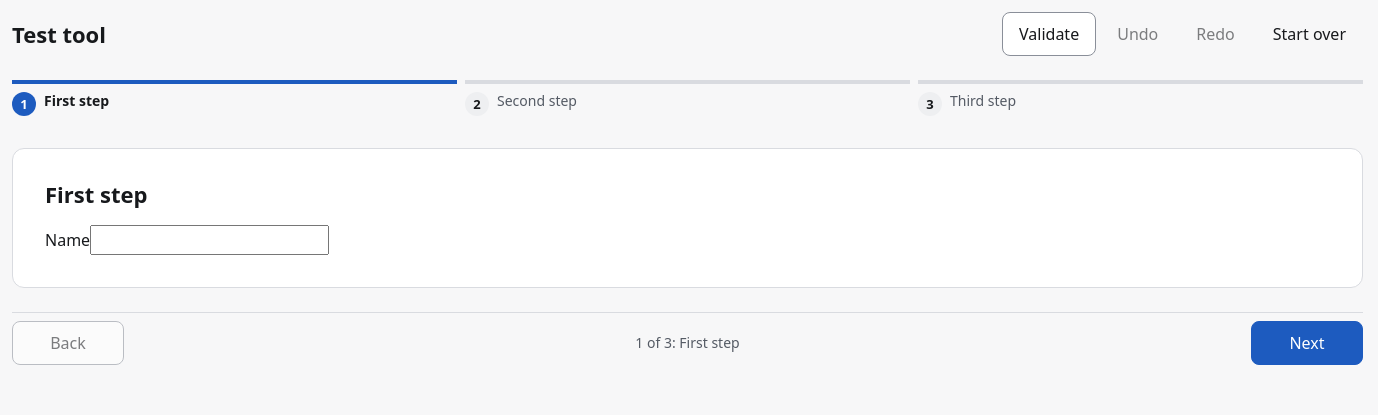
it: Wizard › blocks Next with a plain-language message until the step is valid
Expected: the heading reads "First step", left=45, top=179, right=147, bottom=209
Expected: the button "Back" is disabled, left=12, top=321, right=124, bottom=365
Click the button "Next" at [1307, 343], box left=1251, top=321, right=1363, bottom=365
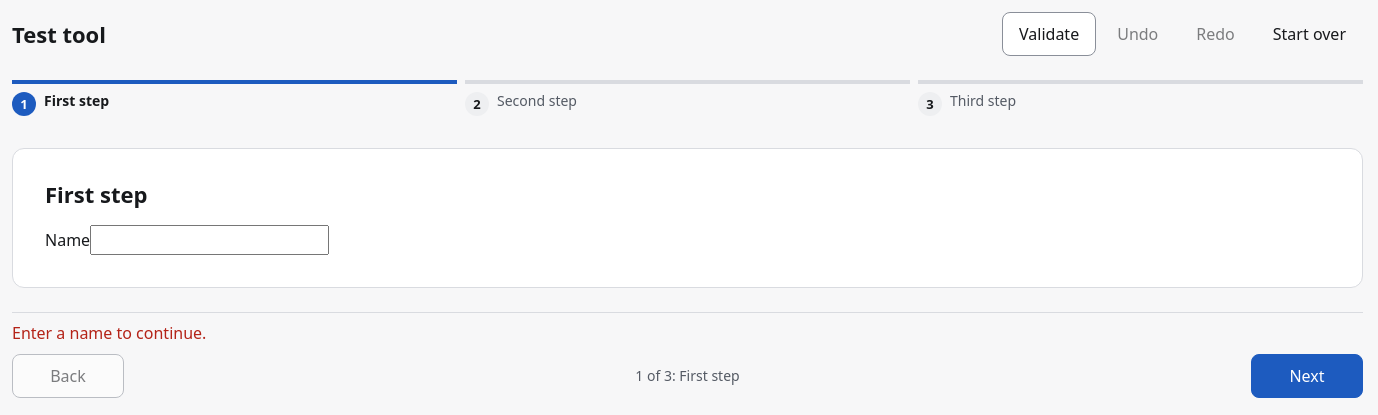
Expected: the heading reads "First step", left=45, top=179, right=147, bottom=209
Expected: the message reads "Enter a name to continue.", left=12, top=322, right=206, bottom=344
// The message goes as soon as the problem is fixed, before Next is pressed again.
Type "Sample A" into the field labelled "Name" at [210, 240], box left=90, top=224, right=329, bottom=255
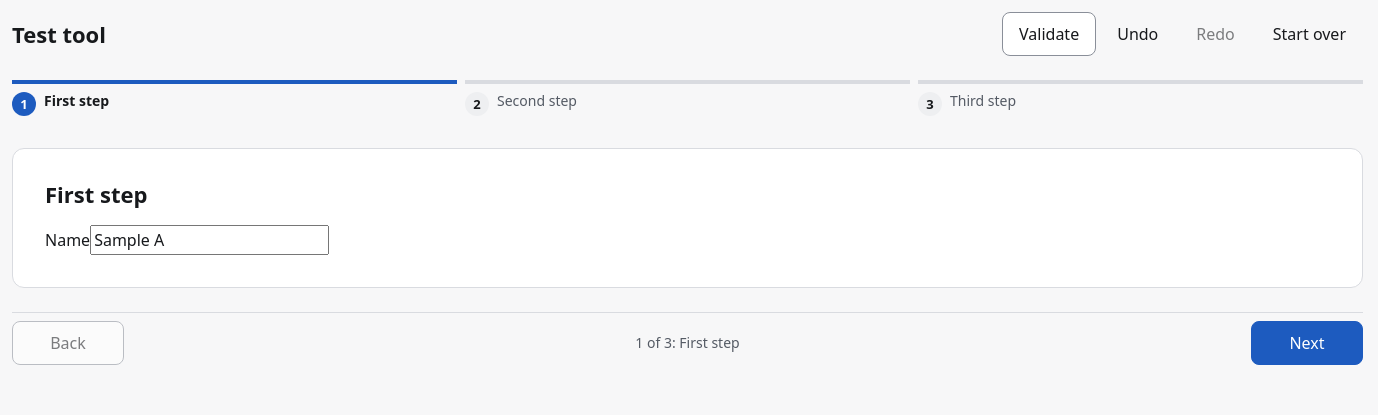
Expected: the message "Enter a name to continue." is gone
Click the button "Next" at [1307, 343], box left=1251, top=321, right=1363, bottom=365
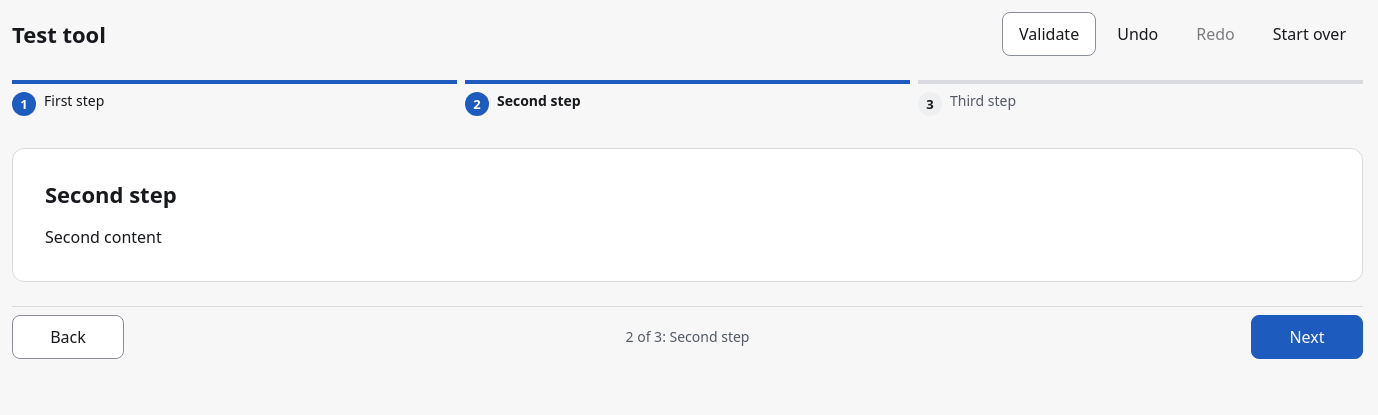
Expected: the heading reads "Second step", left=45, top=179, right=177, bottom=209
